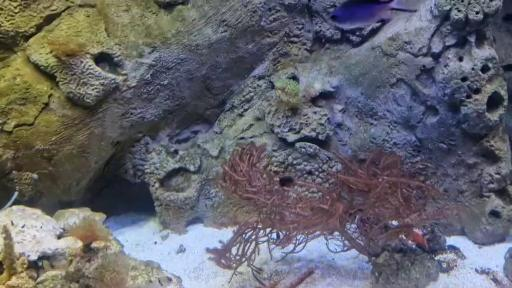Fish: (330, 0, 417, 29), (412, 231, 428, 249)
